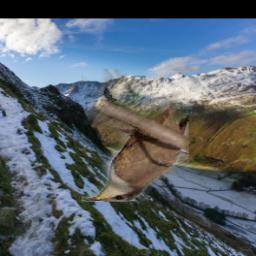Cuckoo: (83, 70, 190, 203)
